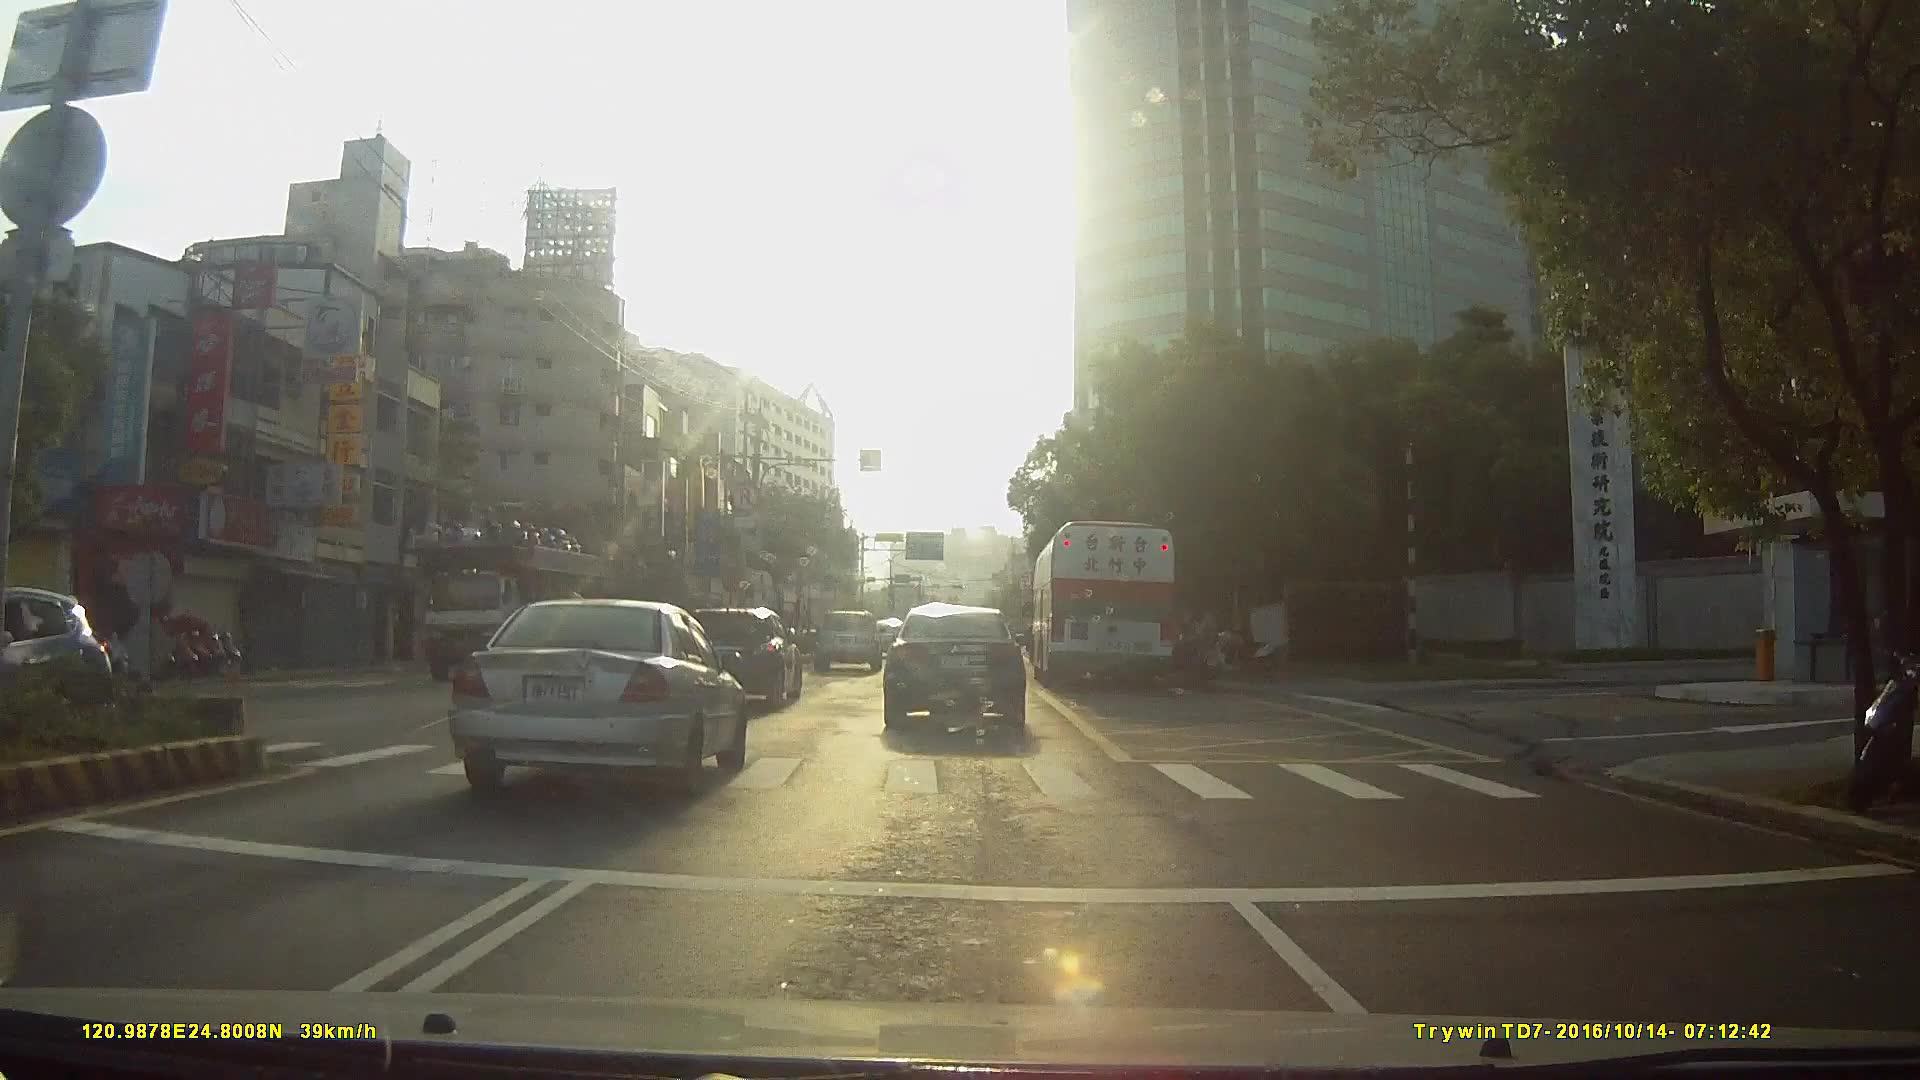vehicle: (438, 596, 745, 800), (415, 502, 618, 690), (1029, 516, 1178, 691), (880, 600, 1026, 732), (1, 589, 117, 713), (676, 607, 800, 709), (811, 608, 882, 673)
